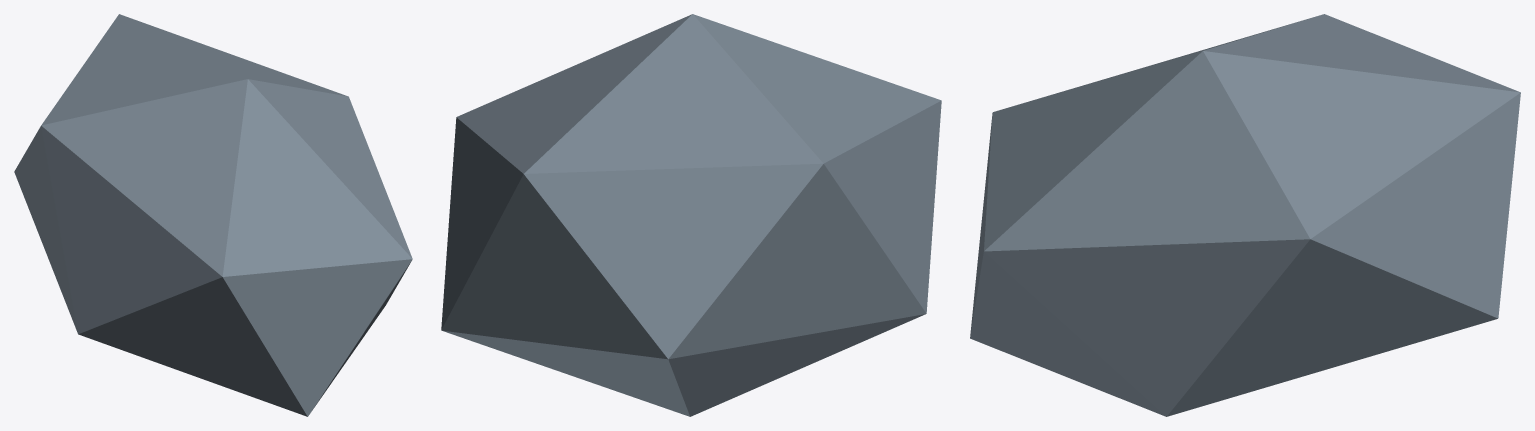
Rendered from INT_A_WallRubble_02_Stone_1.glb.
3 renders of one model, left to right at view 1: azimuth 30°, elevation 25°; view 2: azimuth 150°, elevation 25°; view 3: azimuth 270°, elevation 25°, orthographic. The views are drawn at different scales.
Parts seen in each view (by area): view 1: INT_A_WallRubble_02_Stone_1; view 2: INT_A_WallRubble_02_Stone_1; view 3: INT_A_WallRubble_02_Stone_1.
Boxes of the visible parts, box(x1,y1,x2,y2) form: INT_A_WallRubble_02_Stone_1: box(14, 14, 412, 416); INT_A_WallRubble_02_Stone_1: box(441, 14, 941, 416); INT_A_WallRubble_02_Stone_1: box(970, 14, 1520, 416).
Size of the model in its own units: 0.3902 by 0.3336 by 0.4777.
